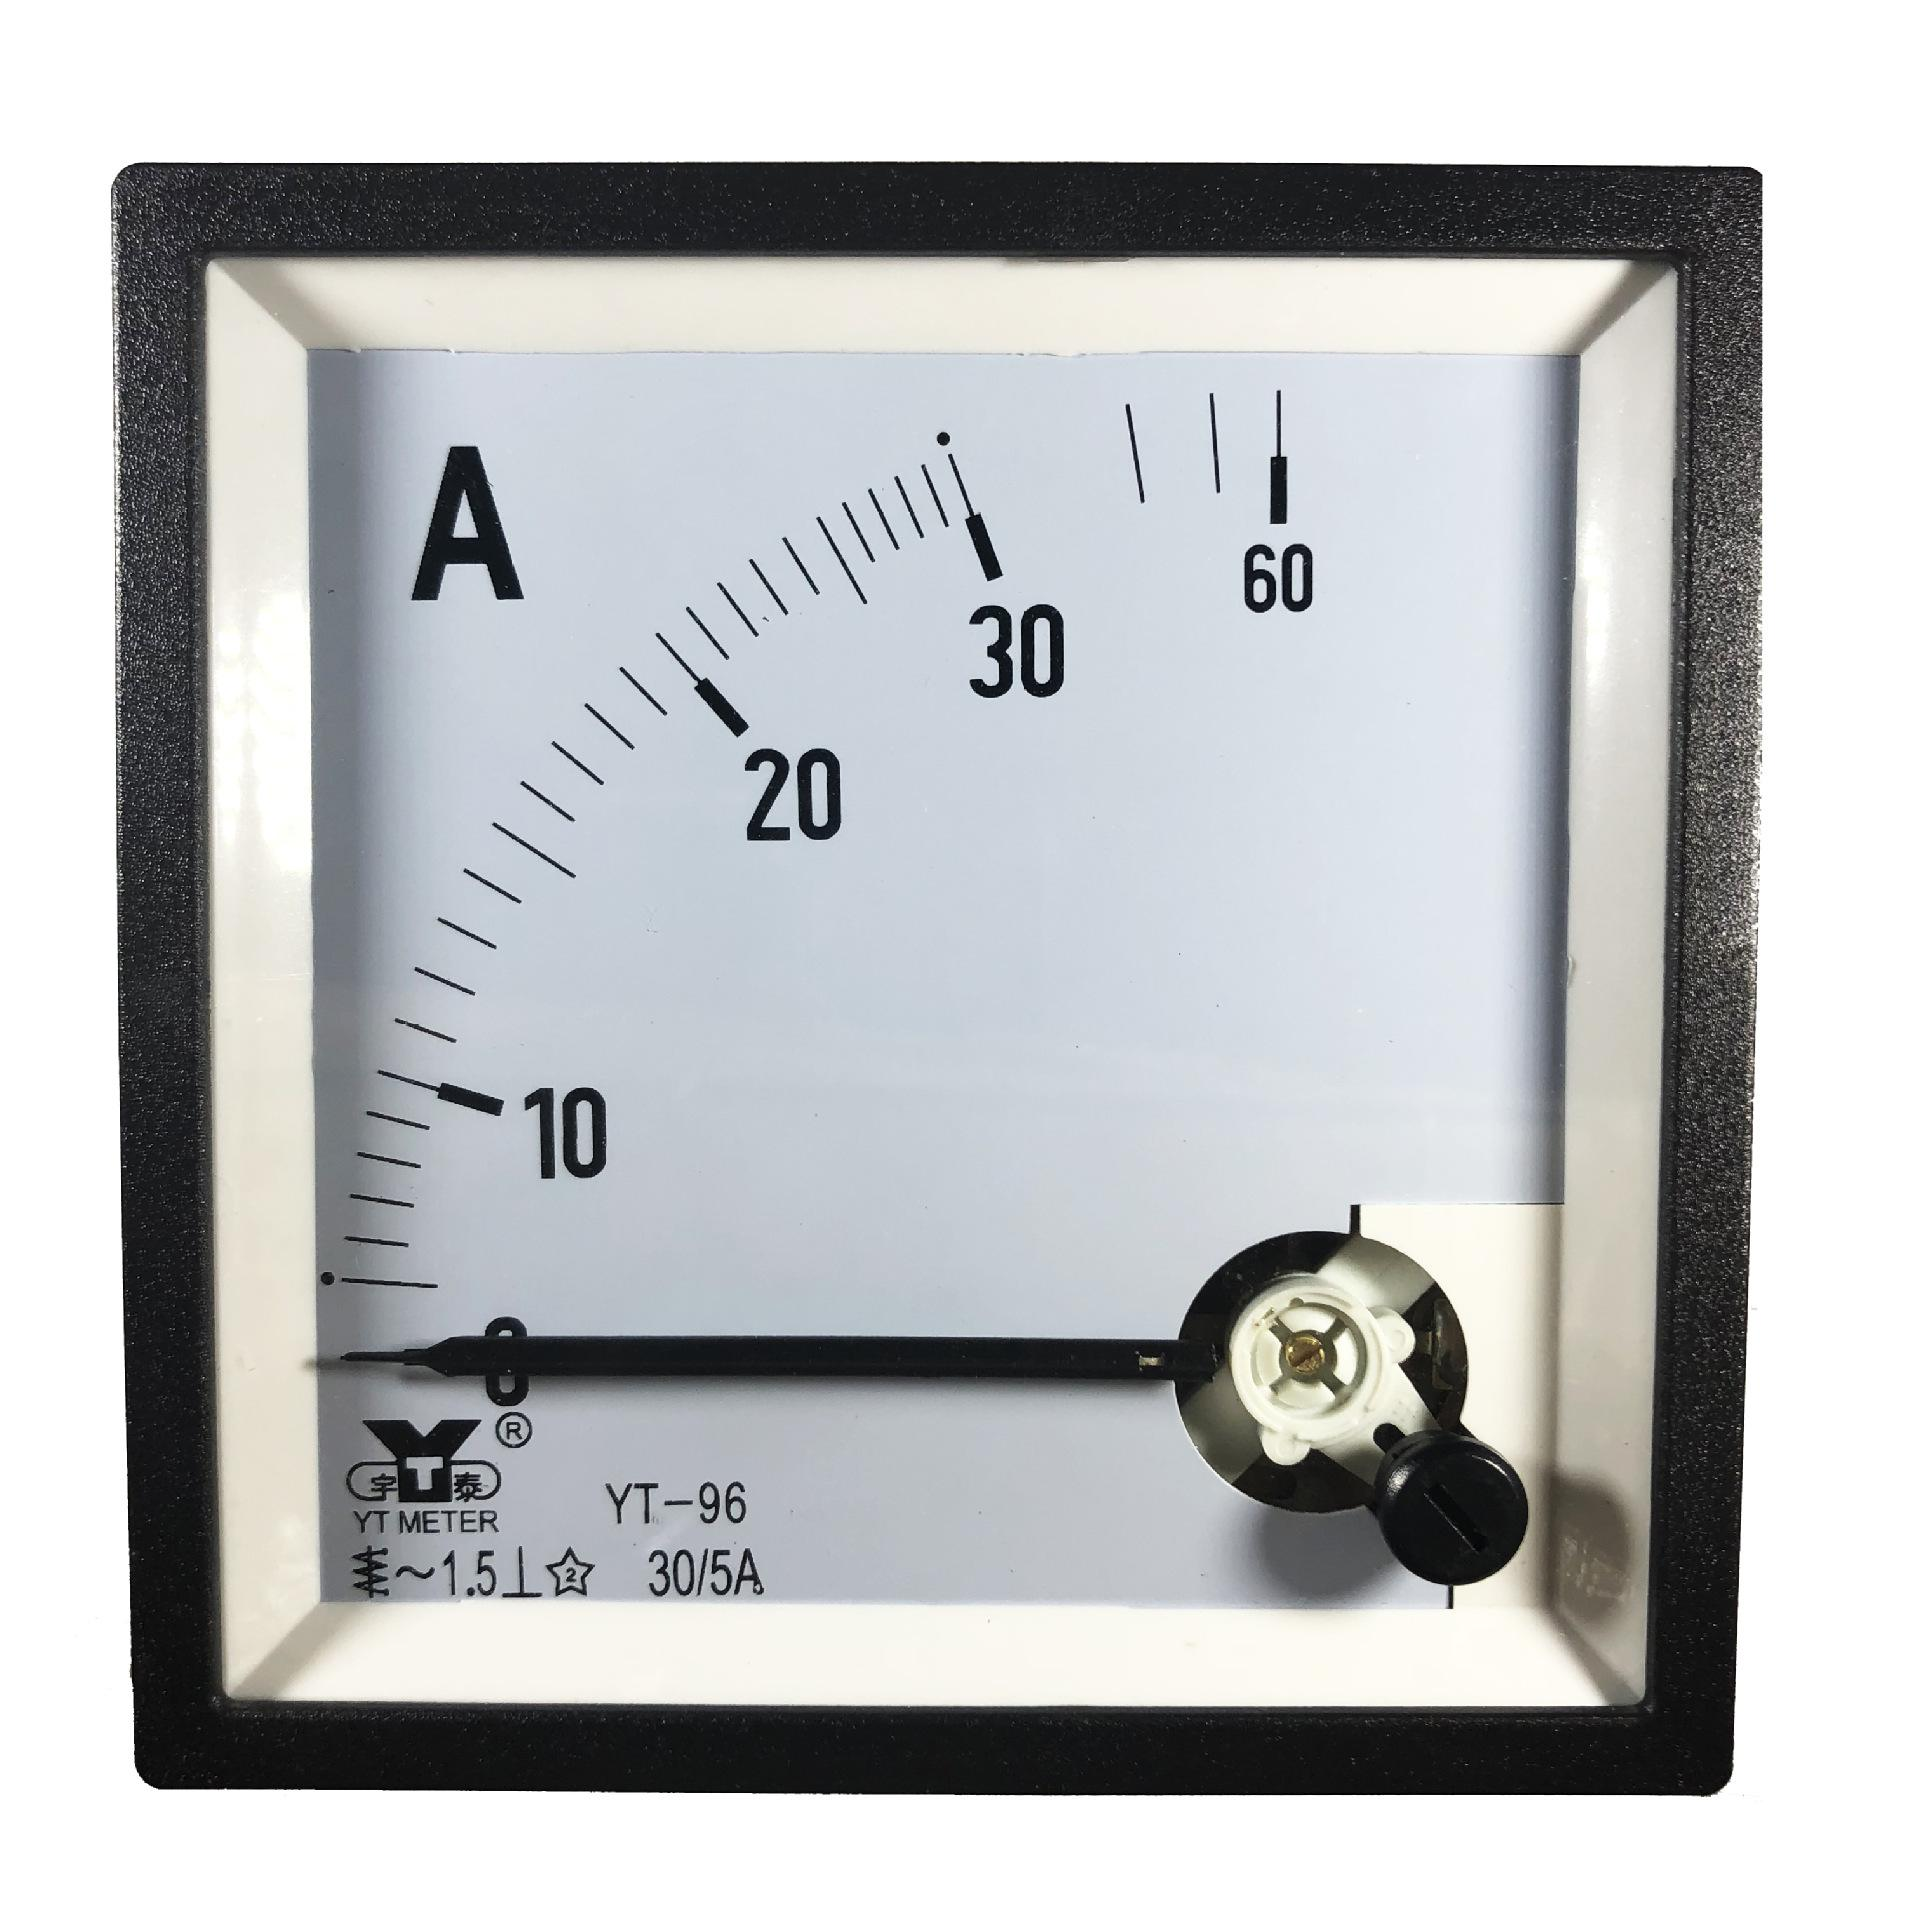pointer: (202, 251, 1646, 1709)
